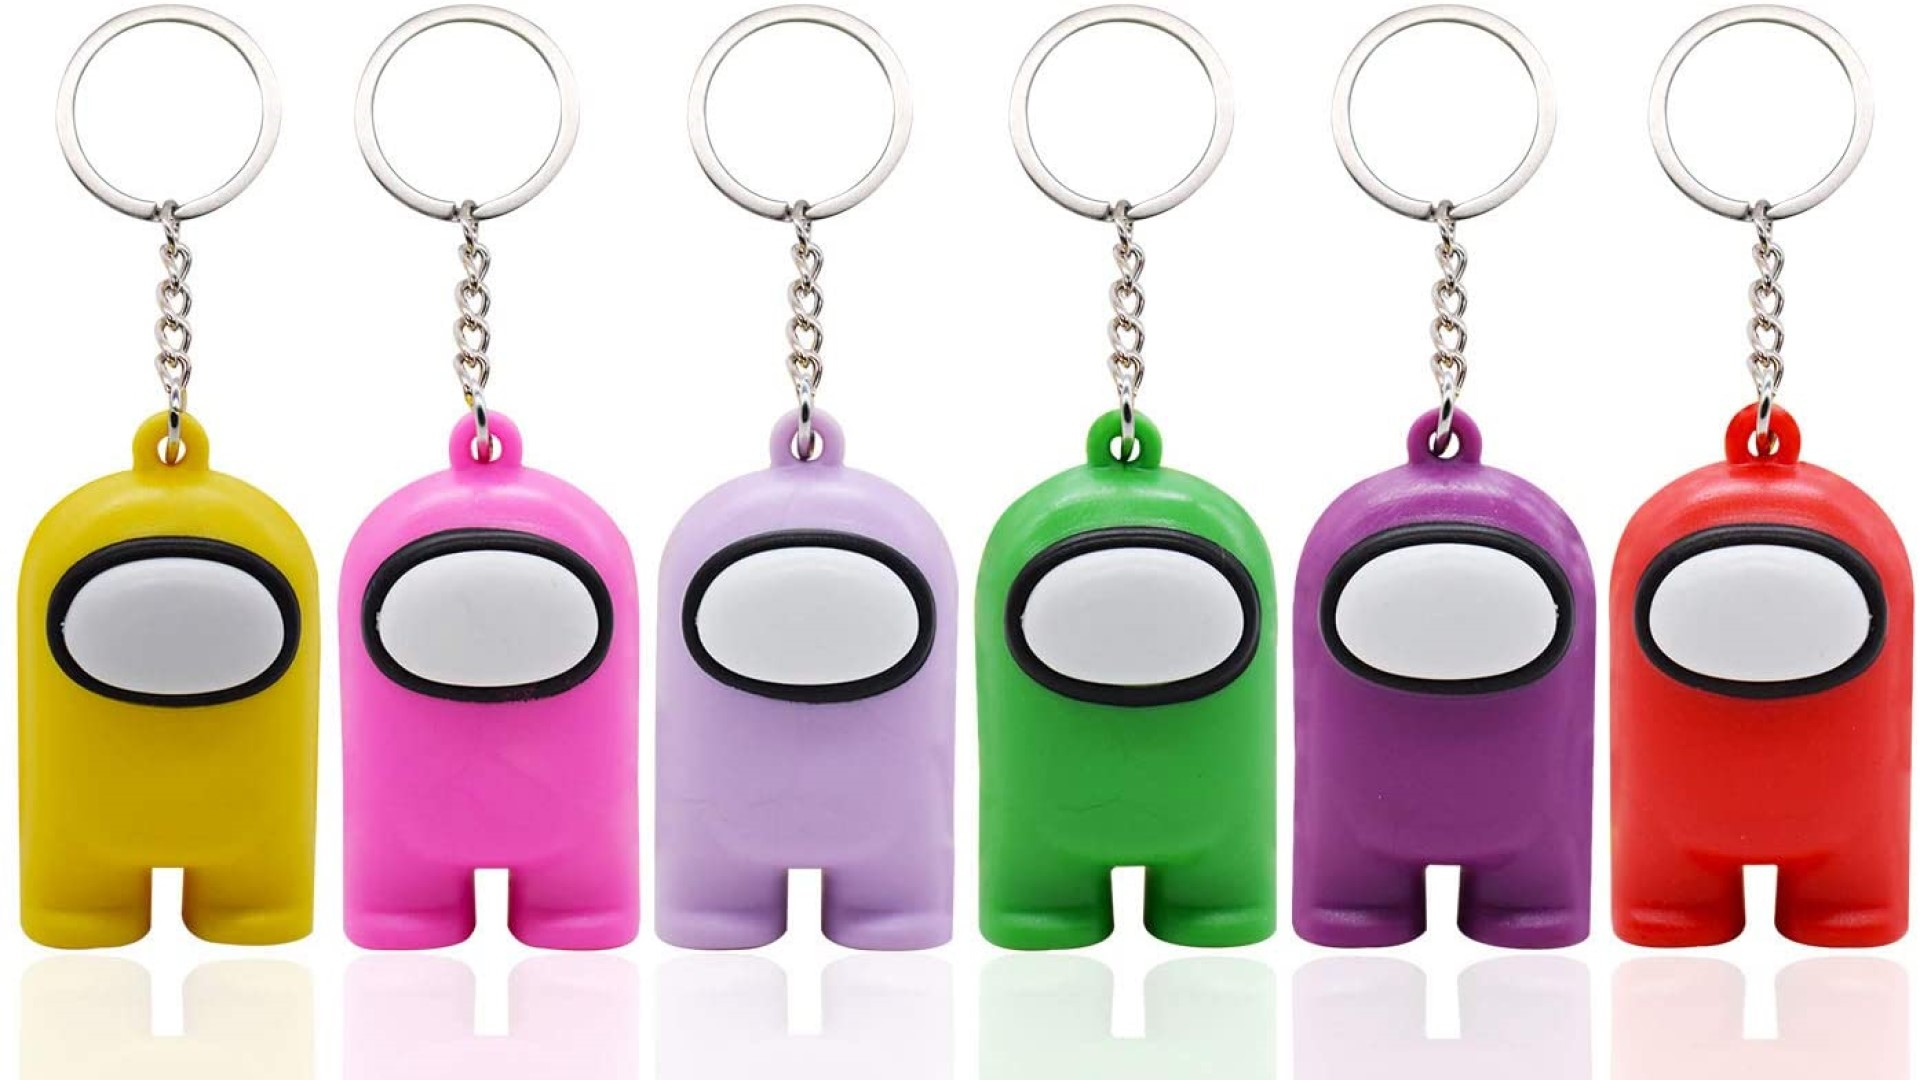toy: (29, 12, 331, 963)
